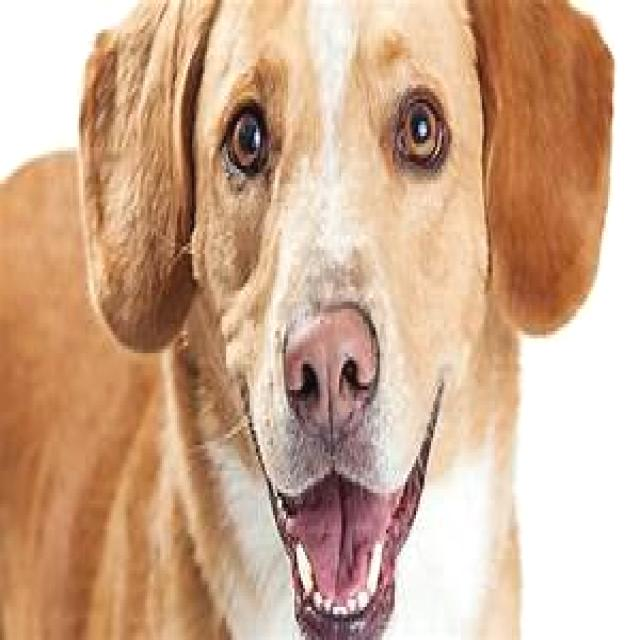KOPEK: (2, 0, 612, 640)
